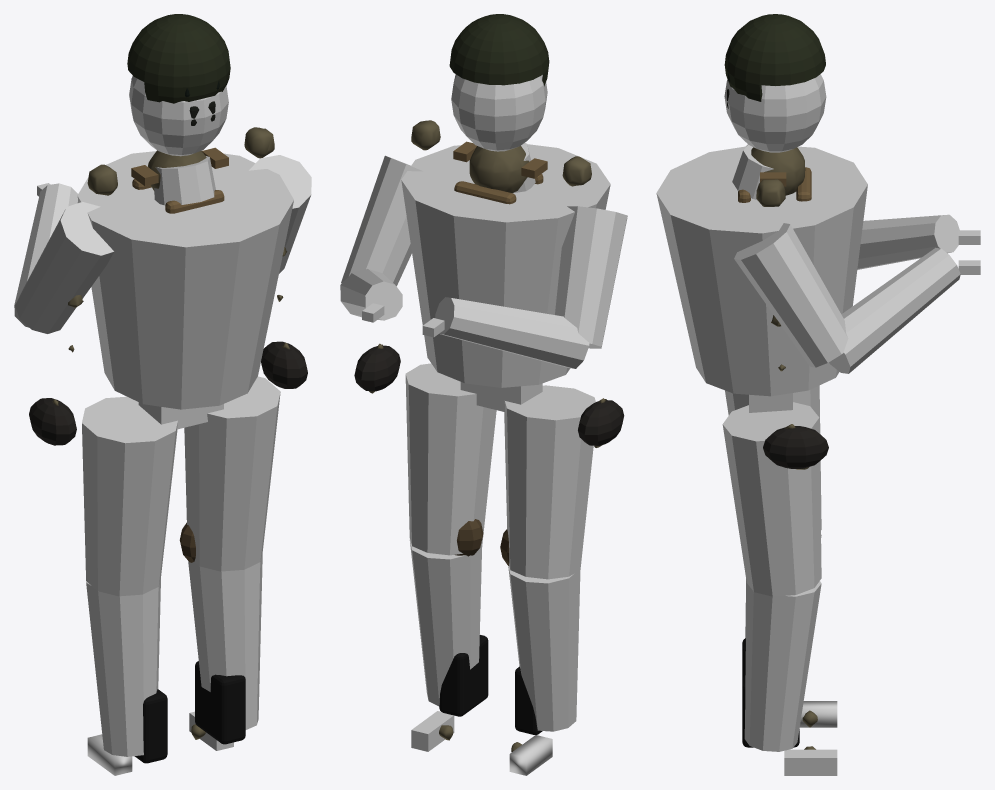
Rendered from PlayerTPS_Character.obj.
3 renders of one model, left to right at view 1: azimuth 30°, elevation 25°; view 2: azimuth 150°, elevation 25°; view 3: azimuth 270°, elevation 25°, orthographic. The views are drawn at different scales.
Parts seen in each view (by area): view 1: Body_Torso, Body_Thigh_R, Body_Thigh_L, Body_Shin_R, Body_Shin_L, Gear_Helmet, Body_UpperArm_R, Body_Head, Gear_Boot_L, Body_Base, Body_Forearm_R, Body_Neck (+7 smaller); view 2: Body_Torso, Body_Thigh_R, Body_Thigh_L, Body_Shin_R, Body_Shin_L, Body_UpperArm_R, Body_Forearm_R, Gear_Helmet, Body_Head, Body_UpperArm_L, Body_Base, Gear_Boot_L (+9 smaller); view 3: Body_Torso, Body_Thigh_L, Body_Shin_L, Body_UpperArm_L, Body_Forearm_L, Gear_Helmet, Body_Head, Body_Forearm_R, Body_Base, Gear_Glove_L, Body_Foot_L, Body_Neck (+3 smaller).
Part boxes in pixels (box(x1,y1,x2,y2)): Body_Torso: box(77, 150, 293, 409); Body_Thigh_R: box(82, 396, 177, 596); Body_Thigh_L: box(184, 376, 280, 571); Body_Shin_R: box(86, 577, 160, 756); Body_Shin_L: box(188, 553, 262, 729); Gear_Helmet: box(127, 14, 230, 103); Body_UpperArm_R: box(15, 202, 114, 333); Body_Head: box(129, 76, 228, 156); Gear_Boot_L: box(195, 661, 245, 744); Body_Base: box(52, 127, 289, 739); Body_Forearm_R: box(14, 183, 78, 327); Body_Neck: box(154, 156, 215, 205); Body_Torso: box(401, 144, 610, 387); Body_Thigh_R: box(504, 385, 595, 579); Body_Thigh_L: box(405, 363, 496, 555); Body_Shin_R: box(508, 566, 580, 731); Body_Shin_L: box(409, 539, 482, 706); Body_UpperArm_R: box(555, 206, 627, 348); Body_Forearm_R: box(435, 297, 589, 368); Gear_Helmet: box(449, 14, 549, 86); Body_Head: box(451, 74, 547, 151); Body_UpperArm_L: box(341, 155, 422, 286); Body_Base: box(369, 120, 606, 751); Gear_Boot_L: box(439, 635, 488, 716); Body_Torso: box(656, 146, 867, 396); Body_Thigh_L: box(722, 402, 821, 596); Body_Shin_L: box(744, 581, 821, 751); Body_UpperArm_L: box(734, 223, 848, 367); Body_Forearm_L: box(829, 247, 960, 373); Gear_Helmet: box(724, 14, 825, 101); Body_Head: box(724, 74, 826, 152); Body_Forearm_R: box(857, 214, 959, 269); Body_Base: box(751, 147, 817, 749); Gear_Glove_L: box(763, 426, 828, 468); Body_Foot_L: box(784, 749, 837, 775); Body_Neck: box(732, 145, 786, 199).
Bounding box in the file's own units: 0.6778 × 1.82 × 0.7348.
